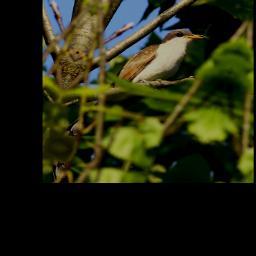Cuckoo: (59, 5, 212, 165)
